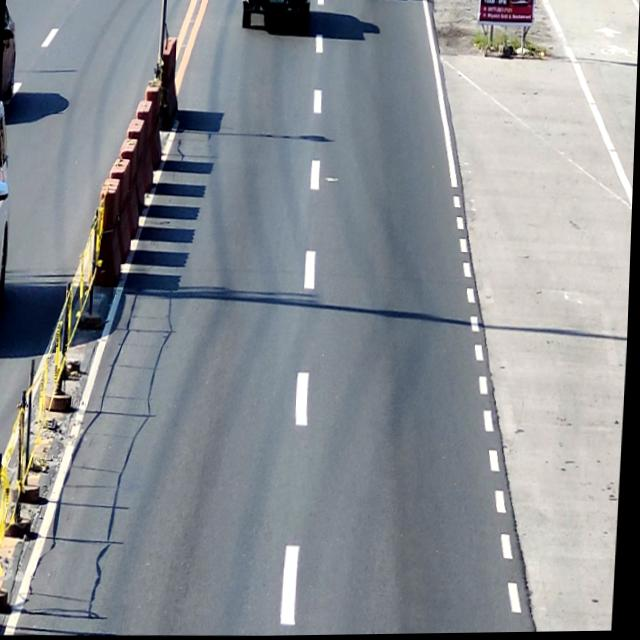Car: (0, 102, 18, 318), (1, 3, 17, 101)
